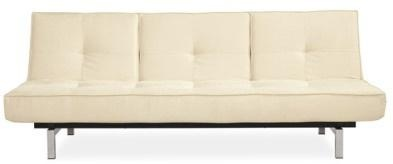sofa: (6, 14, 388, 160)
